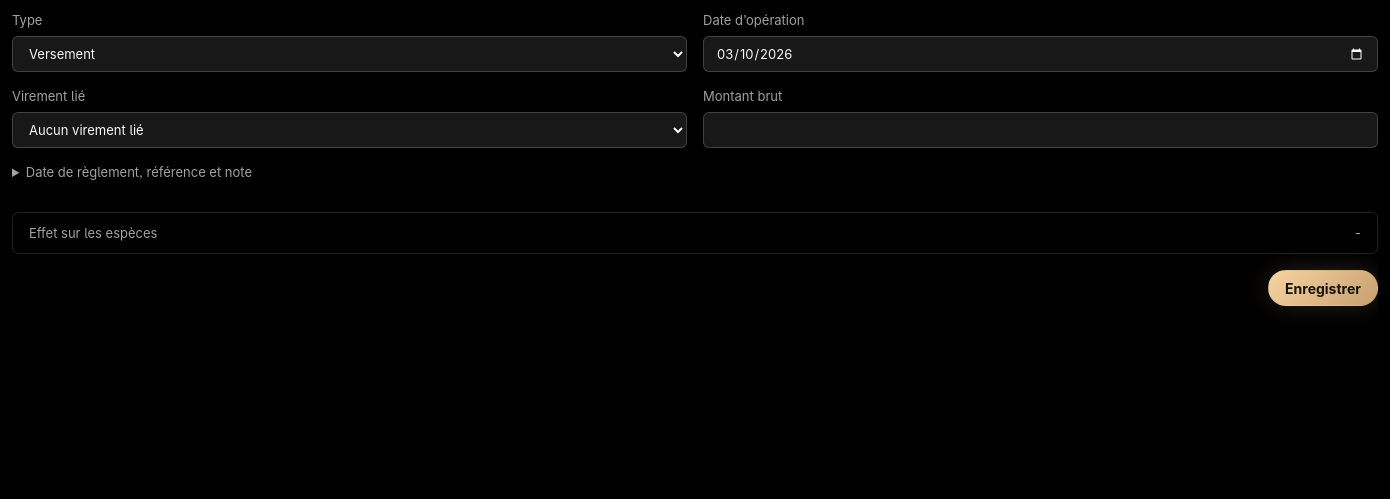
Scenario: OperationForm › shows the server cash effect and rounding residual for a buy
Select "Achat" in the dropdown labelled "Type" at (350, 54), box [12,36,687,72]
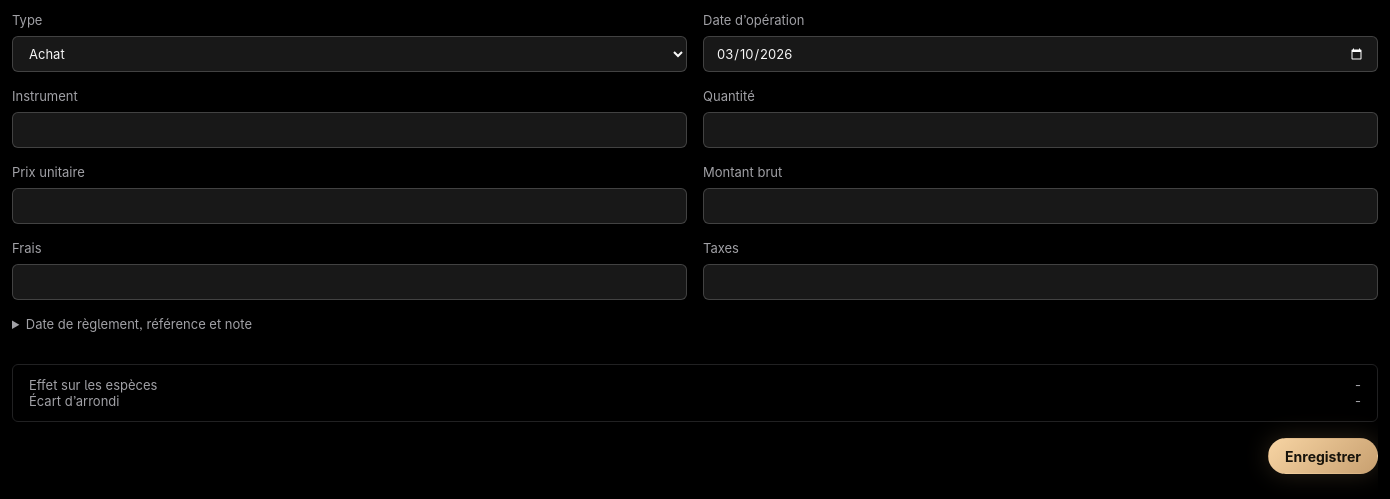
Focus the dropdown labelled "Instrument" at (350, 130), box [12,112,687,148]
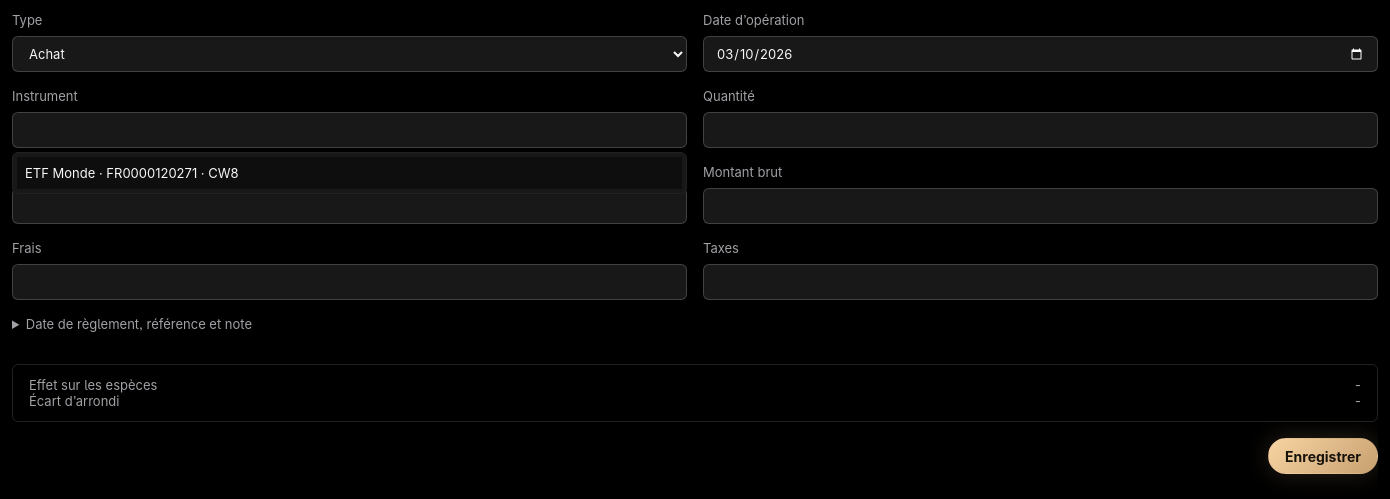
Press the mouse on the option "ETF Monde · FR0000120271 · CW8" at (60, 173), box [17,157,682,189]
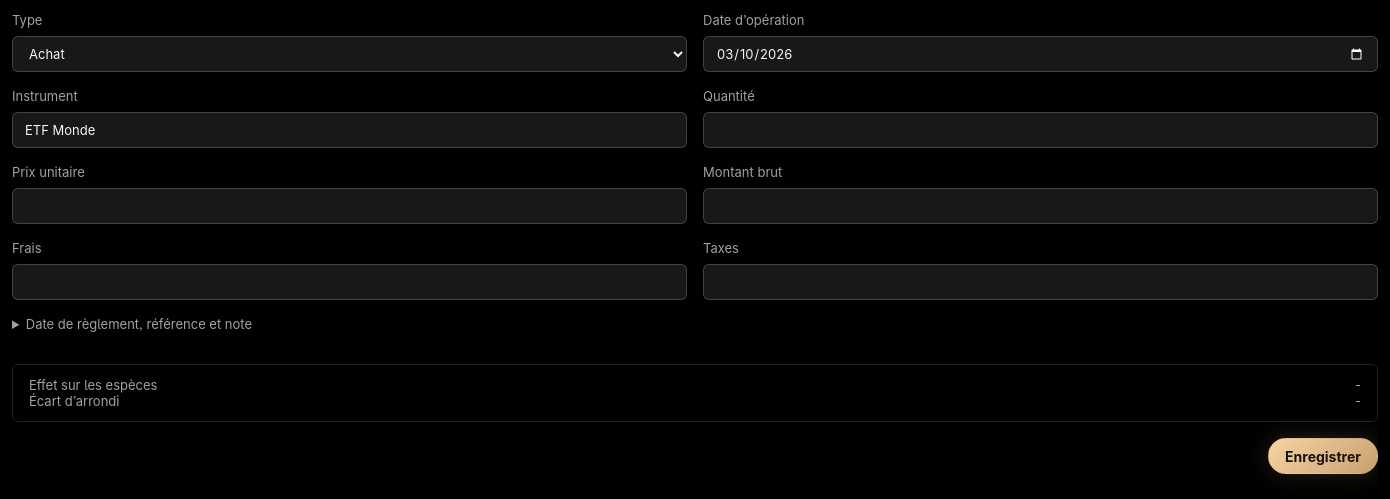
Type "10" into the field labelled "Quantité".
click(1040, 130); type("10")  # box [703,112,1378,148]
Type "230.5688" into the field labelled "Prix unitaire".
click(350, 206); type("230.5688")  # box [12,188,687,224]
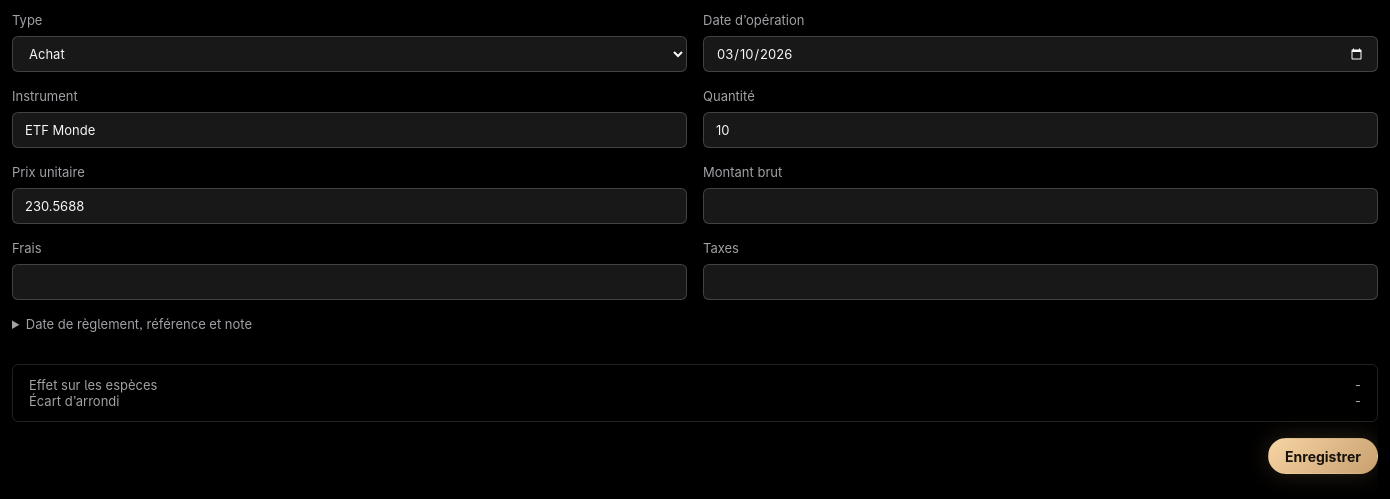
Type "2305.69" into the field labelled "Montant brut".
click(1040, 206); type("2305.69")  # box [703,188,1378,224]
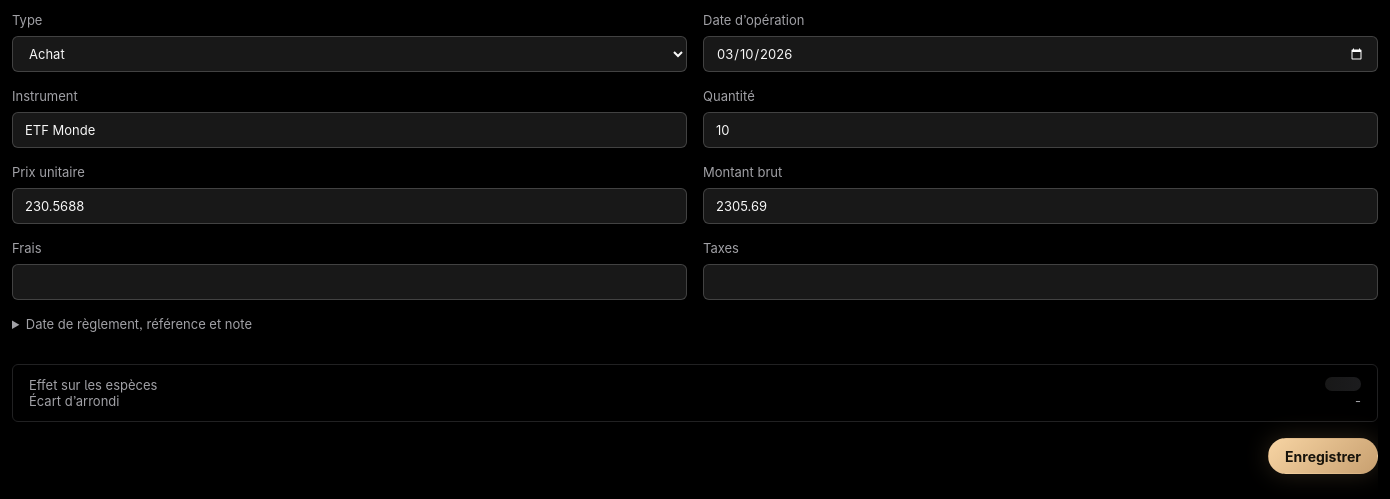
Type "1.99" into the field labelled "Frais".
click(350, 282); type("1.99")  # box [12,264,687,300]
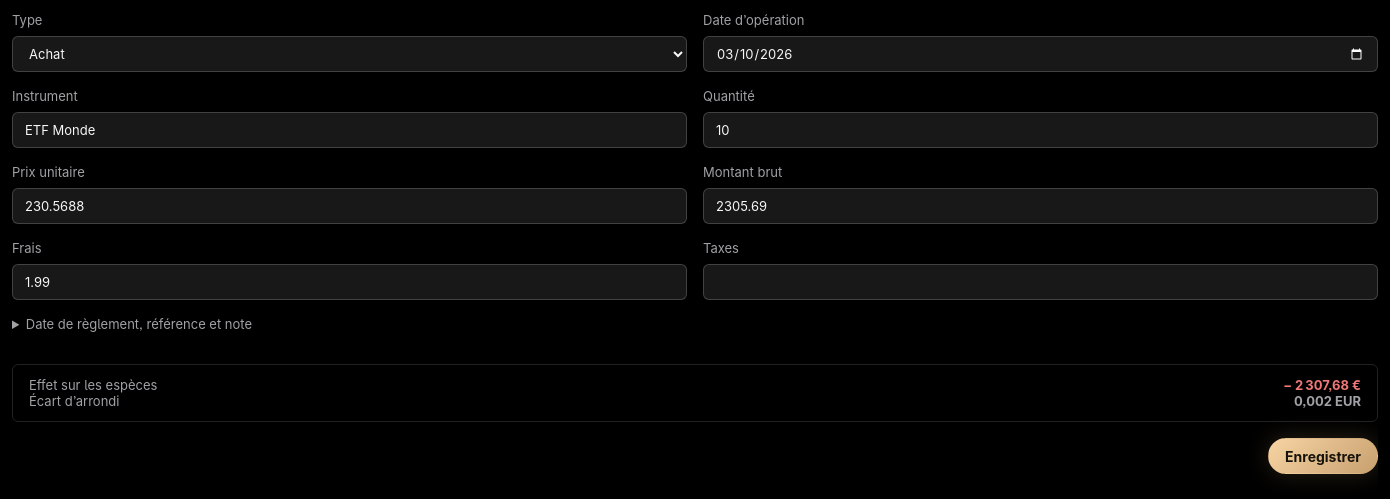
Check: the text "Écart d’arrondi" is shown, box [29,393,120,409]
Check: the text "− 2 307,68 €" is shown, box [1283,377,1361,393]
